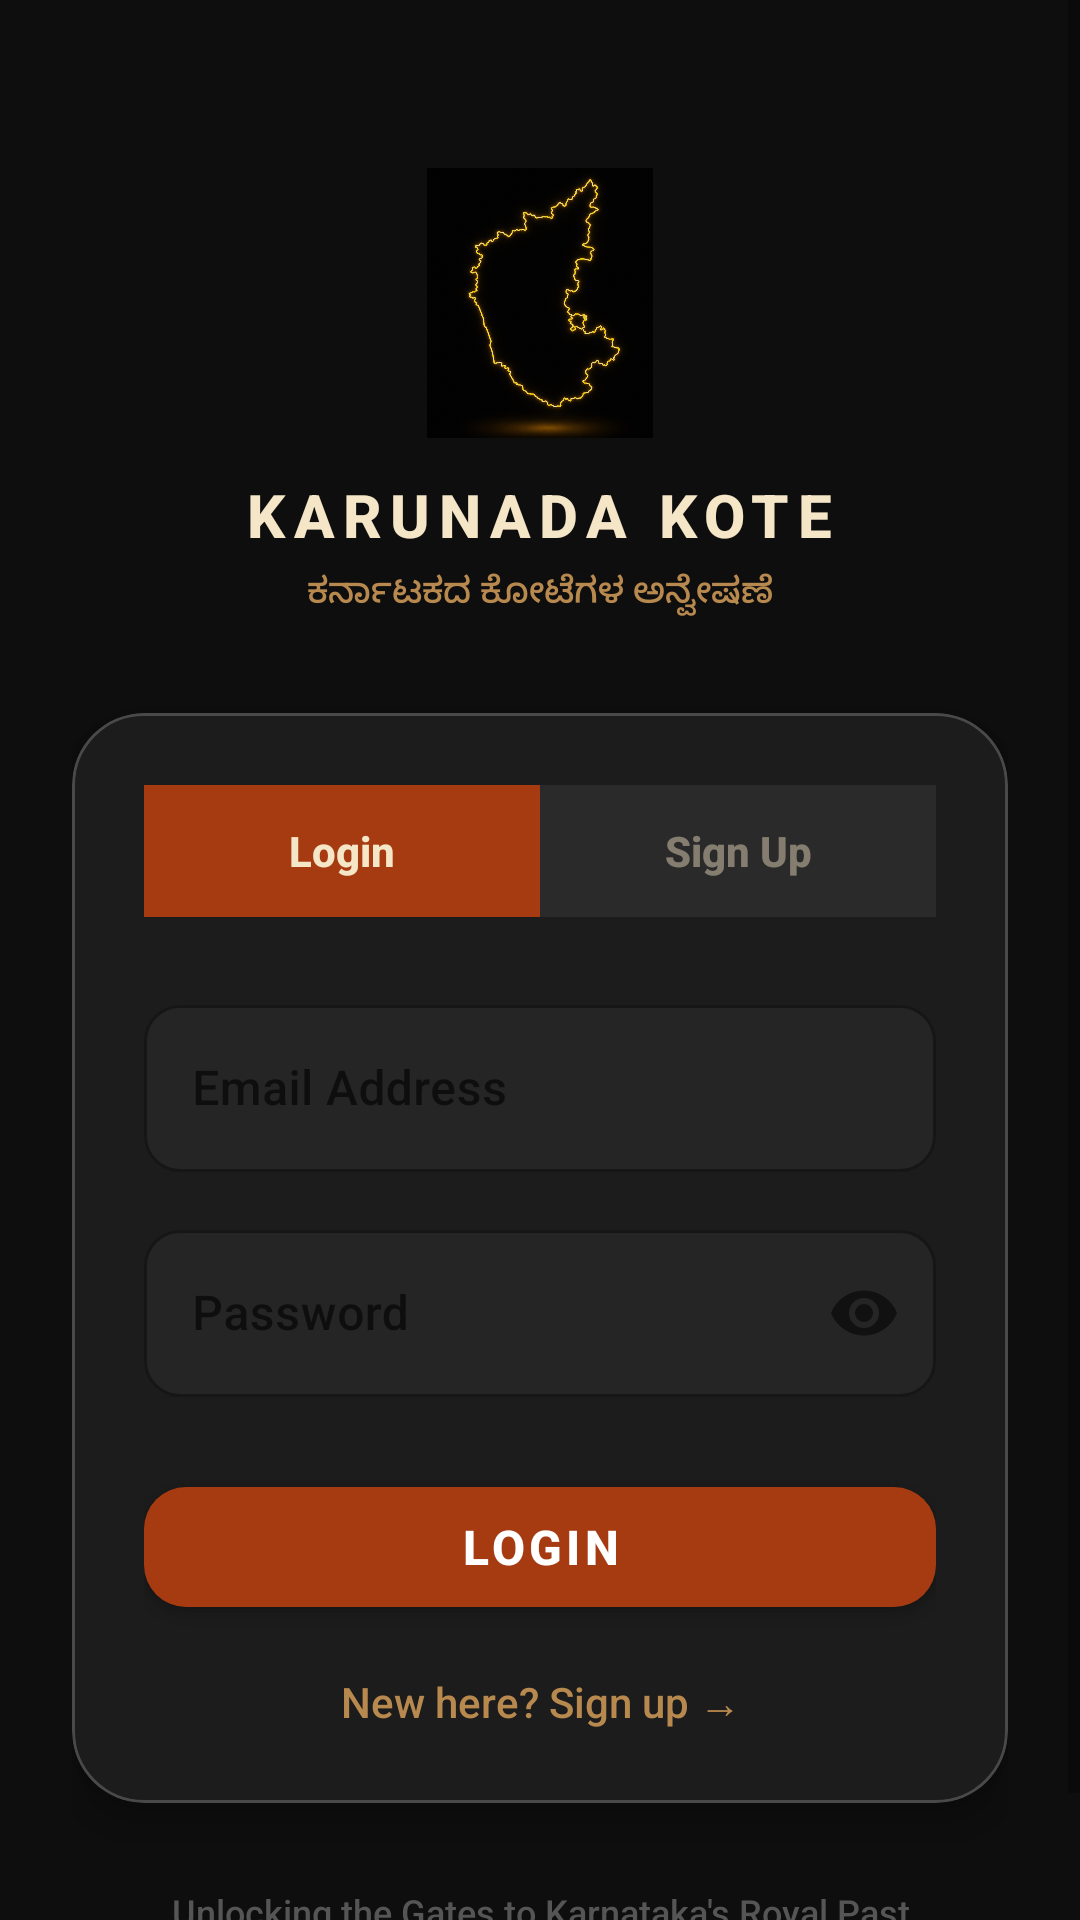

Screen size 1080 × 1920. Icon name, then its center in pixels as (x=x, y=y):
karanataka map: (x=540, y=303)
